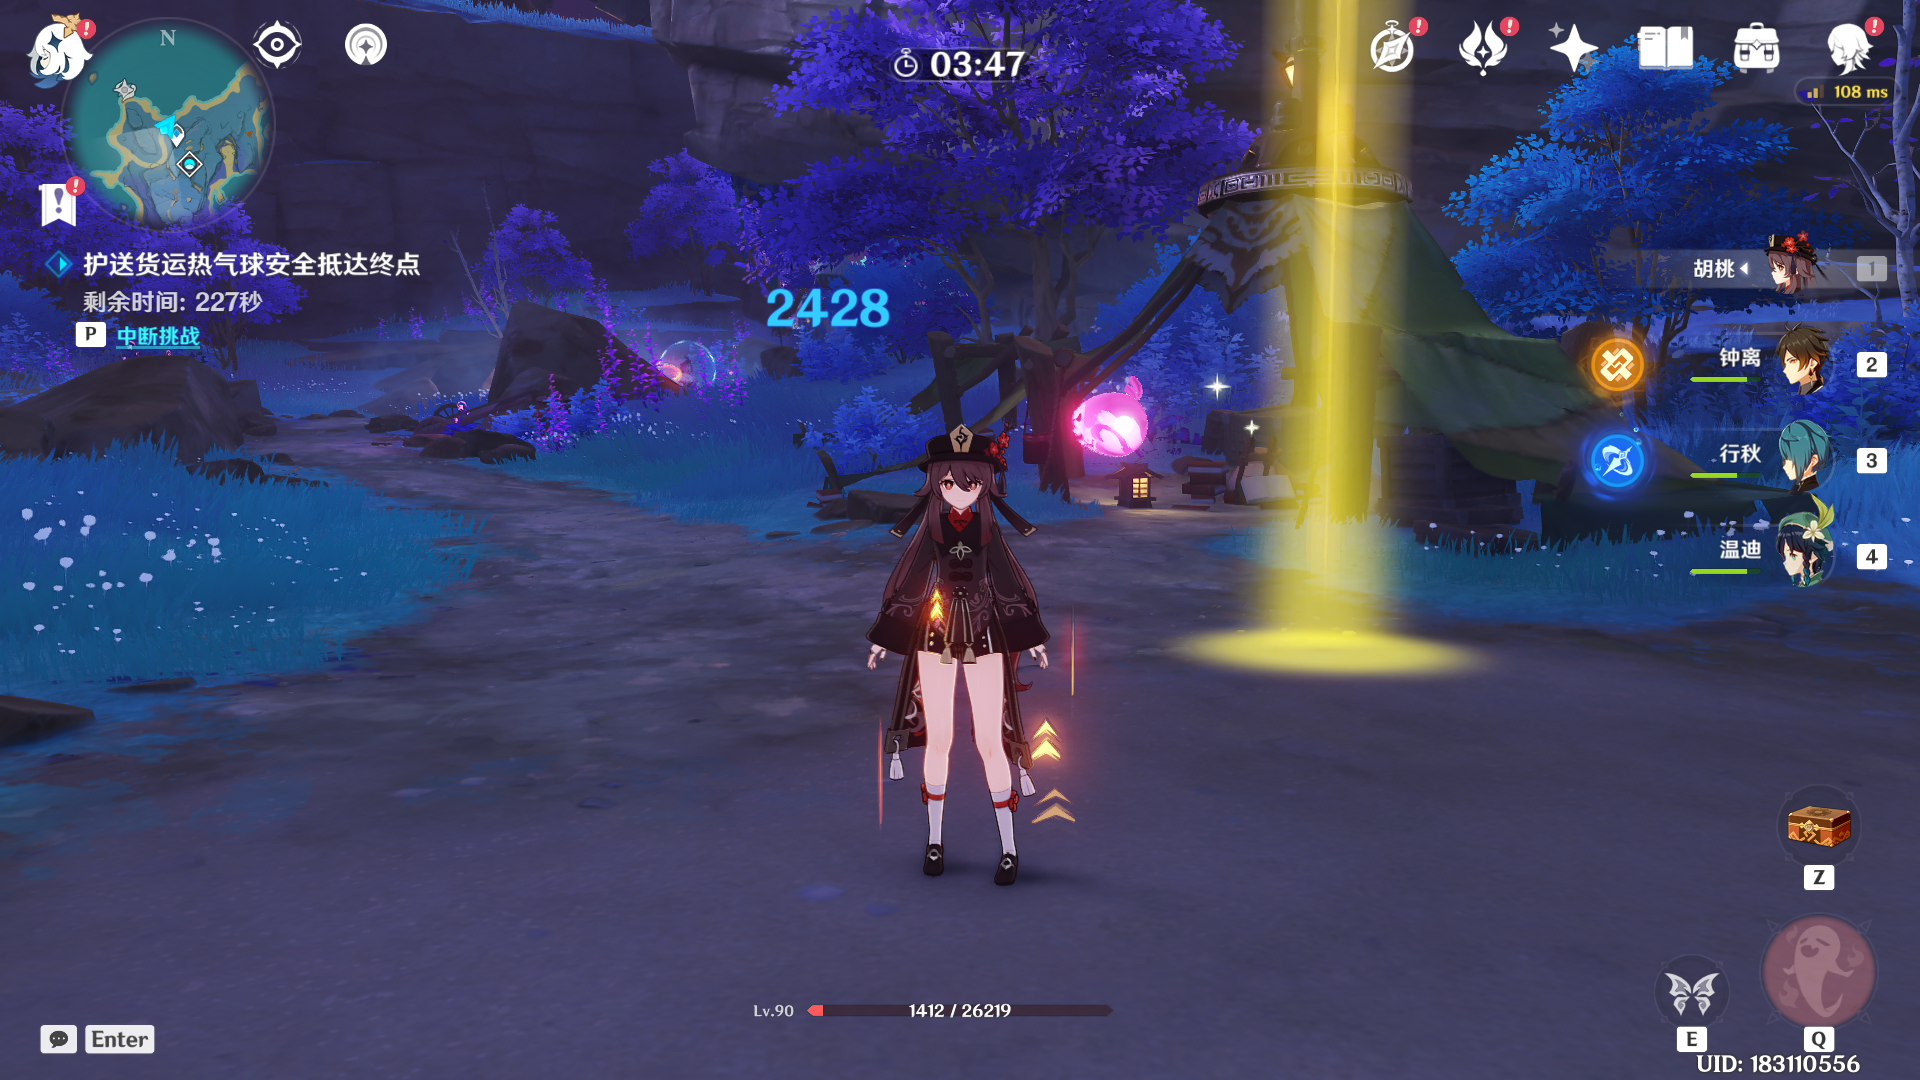character: (775, 382, 1143, 905)
